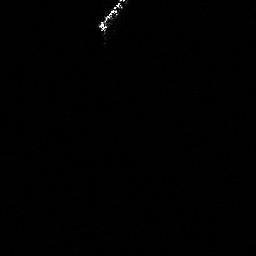ship: (97, 1, 126, 32)
